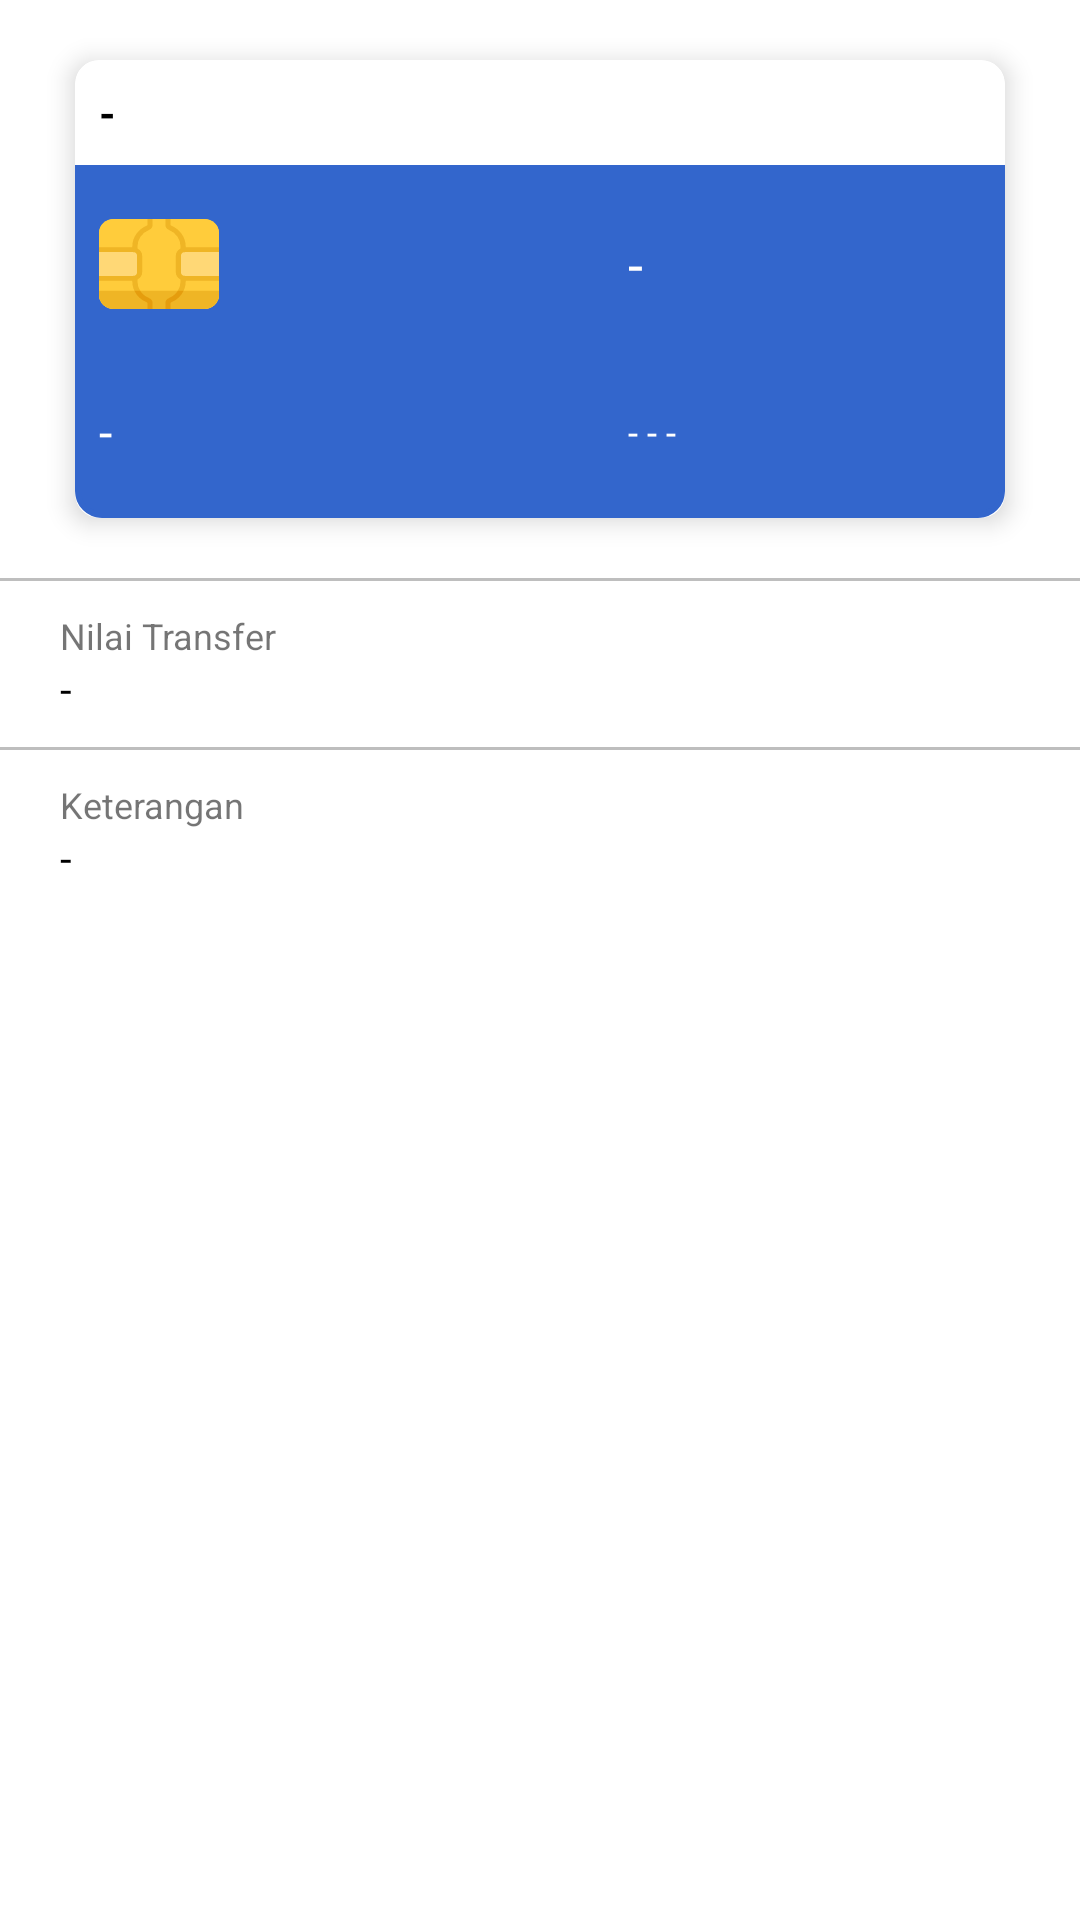

Icon bounding boxes for this 1080px×1920px phone screenshot, format (x1, y1, x2, y2):
chip: (99, 219, 219, 309)
